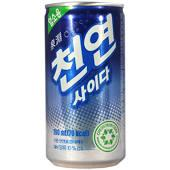can: (39, 1, 130, 170)
